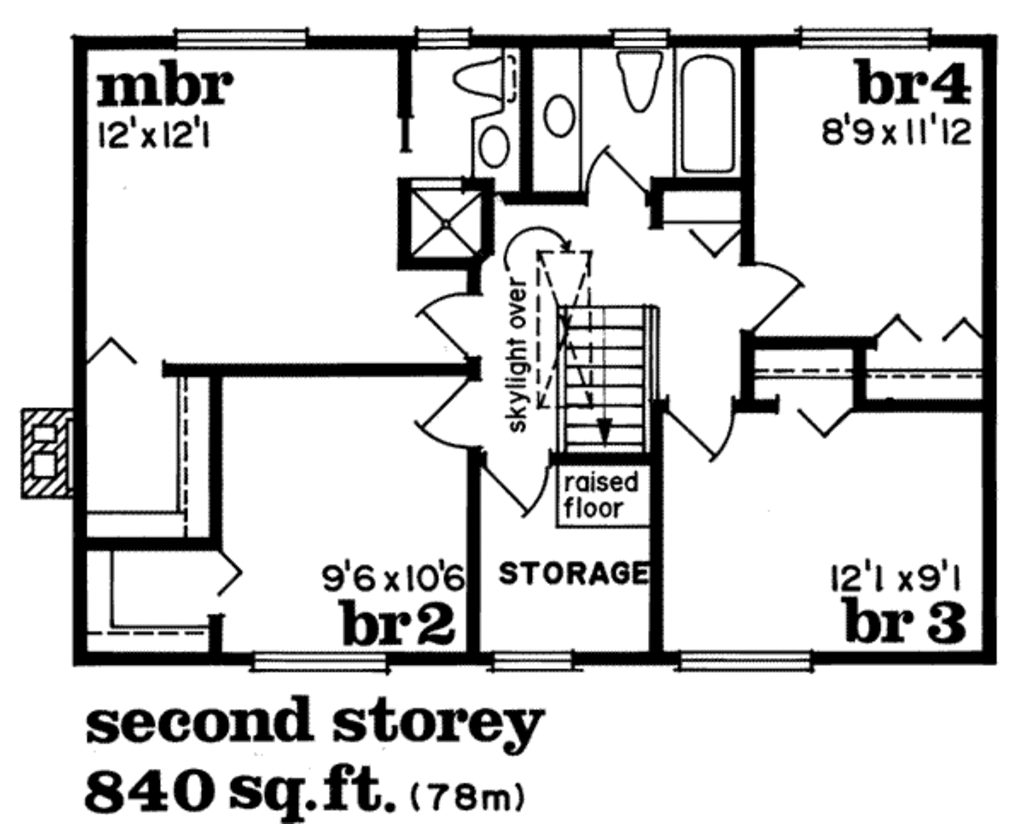door: (413, 289, 482, 362), (424, 378, 488, 456), (740, 255, 801, 334), (485, 449, 548, 516), (674, 396, 739, 459), (582, 143, 645, 202)
large_sink: (610, 44, 667, 109), (448, 56, 504, 102)
small_sink: (530, 50, 588, 198), (458, 107, 519, 189)
stairs: (554, 299, 656, 456)
tub: (671, 44, 757, 181)
windows: (166, 20, 309, 53), (669, 647, 814, 679), (790, 21, 937, 52), (250, 645, 390, 677), (490, 649, 580, 674), (410, 24, 476, 51)
